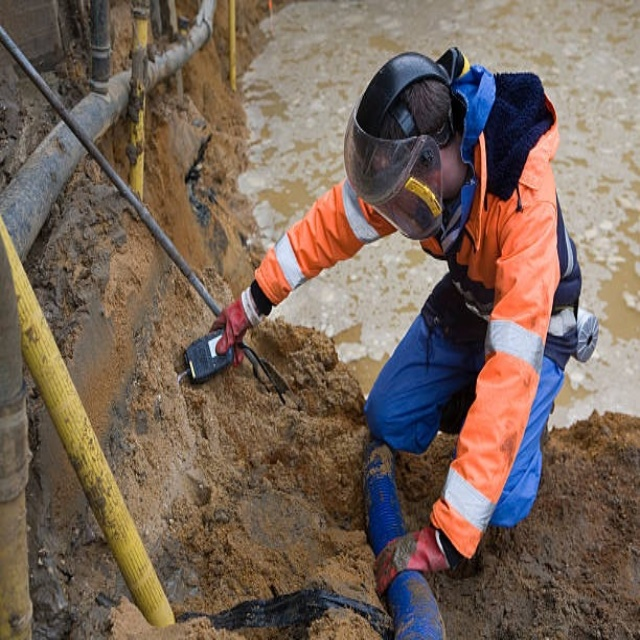Guantes: (374, 524, 448, 598), (207, 288, 264, 366)
